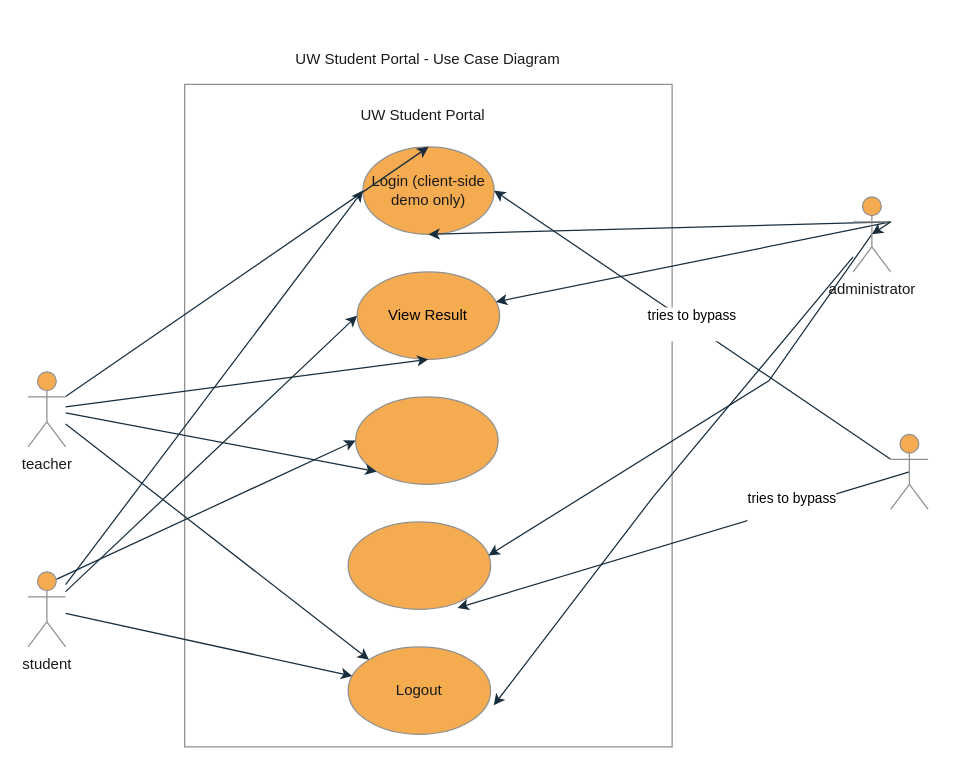
Image size: 958x769. Some labels were removed from this diagram. The centre of each missing label's shape, as x and y in pixels:
"Attacker" belongs at (908,471).
"Search Courses" belongs at (426,440).
"View Admin Panel (client-side demo only)" belongs at (419,565).
